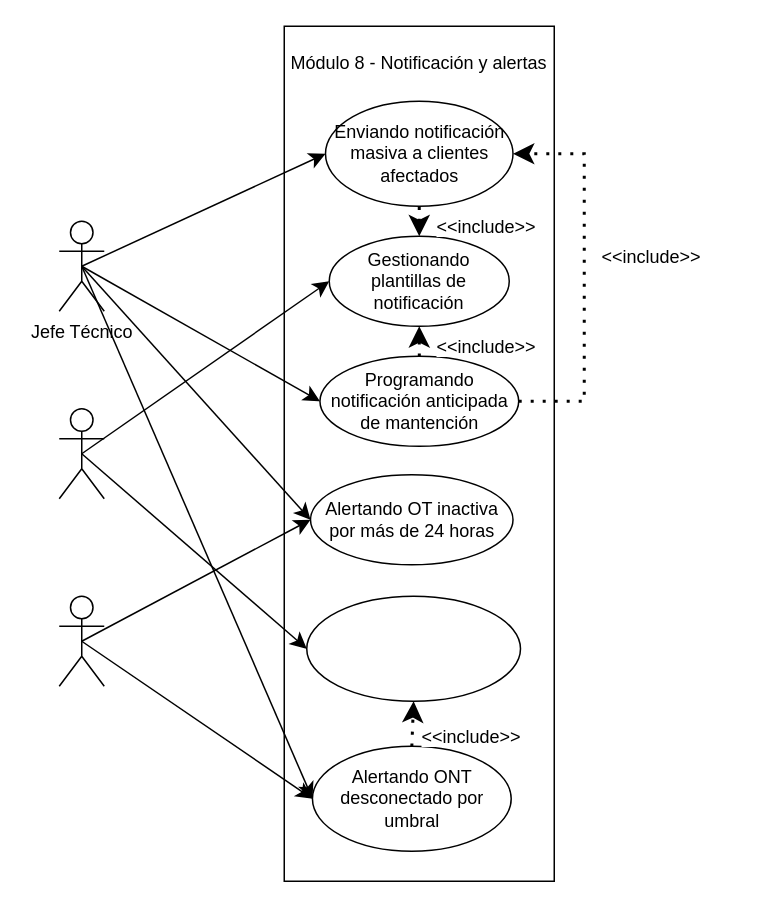
Some shapes in this 774 by 908 pixel diagram are drawn without their labels. The centre of each missing label's shape, as x and y in pixels:
Administrador: point 81,453
Configurando umbral de alerta de ONT: point 412,648
Sistema: point 81,640
